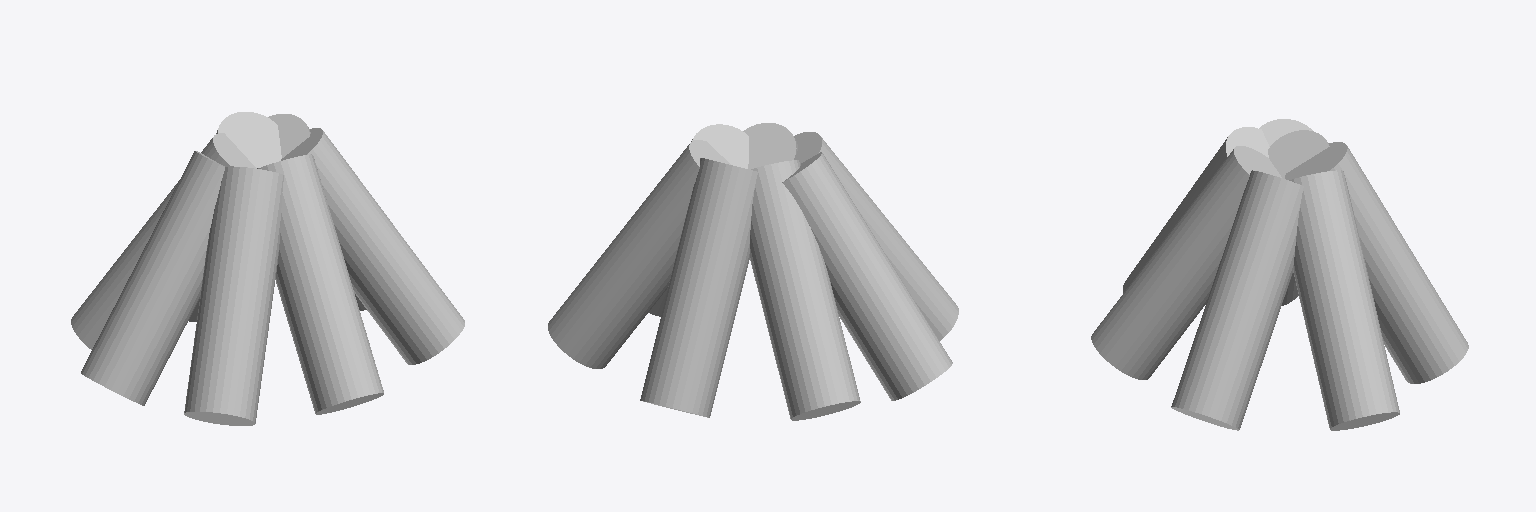
Rendered from ognisko.obj.
3 renders of one model, left to right at view 1: azimuth 30°, elevation 25°; view 2: azimuth 150°, elevation 25°; view 3: azimuth 270°, elevation 25°, orthographic.
Parts seen in each view (by area): view 1: Walec.005_Walec.009, Walec_Walec.004, Walec.006_Walec.010, Walec.002_Walec.006, Walec.004_Walec.008, Walec.001_Walec.005, Walec.003_Walec.007; view 2: Walec.001_Walec.005, Walec.004_Walec.008, Walec.006_Walec.010, Walec.003_Walec.007, Walec.005_Walec.009, Walec_Walec.004, Walec.002_Walec.006; view 3: Walec.002_Walec.006, Walec.003_Walec.007, Walec_Walec.004, Walec.001_Walec.005, Walec.005_Walec.009, Walec.004_Walec.008, Walec.006_Walec.010.
Part boxes in pixels (x1,y1,x2,y2): Walec.005_Walec.009: (184,166,283,425); Walec_Walec.004: (258,154,383,414); Walec.006_Walec.010: (81,151,224,405); Walec.002_Walec.006: (281,128,464,364); Walec.004_Walec.008: (71,133,256,349); Walec.001_Walec.005: (189,112,281,321); Walec.003_Walec.007: (268,114,366,310); Walec.001_Walec.005: (640,158,757,417); Walec.004_Walec.008: (750,160,860,420); Walec.006_Walec.010: (782,152,952,400); Walec.003_Walec.007: (548,140,730,368); Walec.005_Walec.009: (794,132,958,340); Walec_Walec.004: (743,123,797,169); Walec.002_Walec.006: (648,124,748,316); Walec.002_Walec.006: (1171,170,1303,430); Walec.003_Walec.007: (1289,170,1399,430); Walec_Walec.004: (1091,146,1281,379); Walec.001_Walec.005: (1285,142,1468,383); Walec.005_Walec.009: (1123,127,1269,292); Walec.004_Walec.008: (1268,130,1329,178); Walec.006_Walec.010: (1259,119,1312,305).
Bounding box in the file's own units: 2.8 × 1.76 × 2.62.